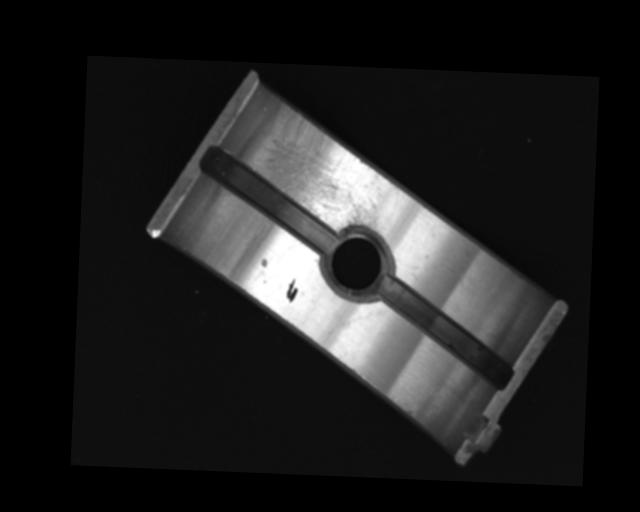blot: (285, 277, 299, 303)
bruise: (260, 257, 268, 268)
gap: (371, 275, 518, 389), (195, 145, 336, 250)
hole: (321, 228, 396, 300)
scratch: (253, 101, 387, 235)
